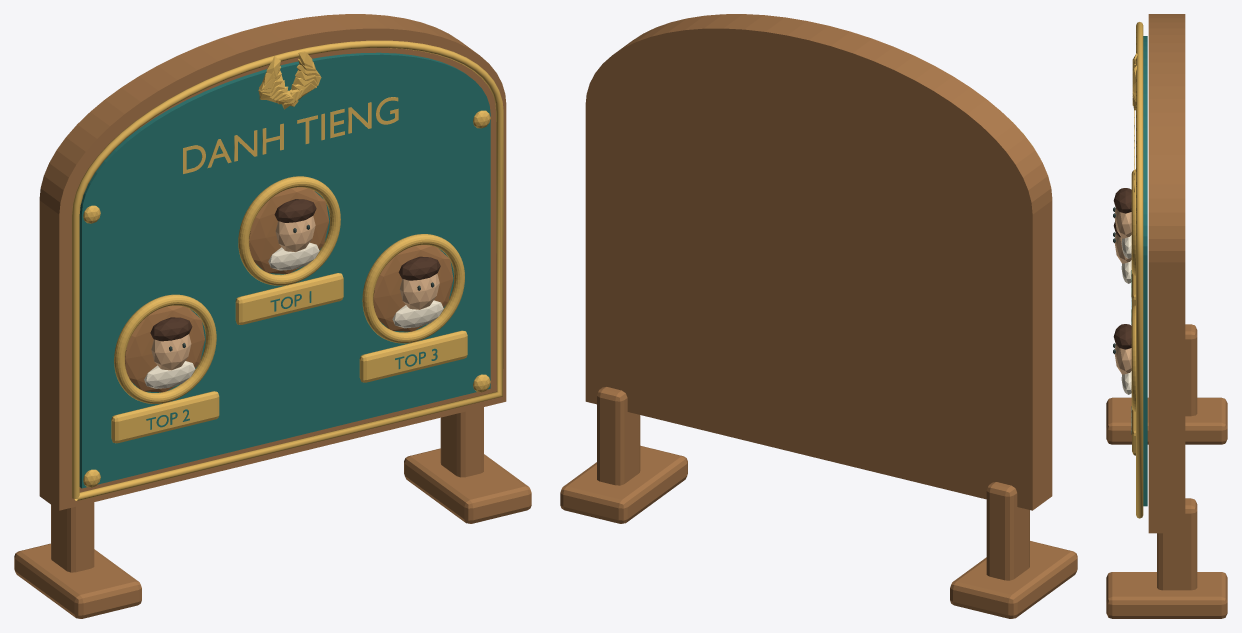
Rendered from honor-gold.glb.
3 views of the same model, side by side, from view 1: azimuth 30°, elevation 25°; view 2: azimuth 150°, elevation 25°; view 3: azimuth 270°, elevation 25° (orthographic). The views are drawn at different scales.
Parts seen in each view (by area): view 1: honor_inset, honor_outer_arch, honor_metal_outline, honor_foot, honor_foot.001, portrait_frame, portrait_frame.002, portrait_frame.001, nameplate, nameplate.002, nameplate.001, portrait_back (+14 smaller); view 2: honor_outer_arch, honor_foot.001, honor_foot, honor_support, honor_support.001; view 3: honor_outer_arch, honor_foot.001, honor_metal_outline, honor_foot, honor_support.001, honor_inset, honor_support, portrait_frame, portrait_frame.002, portrait_head.002, portrait_head, portrait_hair (+5 smaller).
Part boxes in pixels (x1,y1,x2,y2): honor_inset: (79, 52, 490, 488); honor_outer_arch: (39, 14, 506, 510); honor_metal_outline: (72, 40, 503, 500); honor_foot: (14, 543, 141, 618); honor_foot.001: (404, 448, 531, 523); portrait_frame: (238, 176, 340, 285); portrait_frame.002: (362, 234, 464, 343); portrait_frame.001: (114, 294, 216, 403); nameplate: (235, 273, 343, 324); nameplate.002: (359, 330, 467, 382); nameplate.001: (111, 391, 219, 443); portrait_back: (249, 187, 329, 273); honor_outer_arch: (585, 14, 1052, 510); honor_foot.001: (560, 445, 687, 523); honor_foot: (950, 541, 1077, 618); honor_support: (986, 482, 1029, 580); honor_support.001: (597, 387, 640, 485); honor_outer_arch: (1148, 14, 1185, 533); honor_foot.001: (1106, 572, 1227, 618); honor_metal_outline: (1136, 22, 1143, 518); honor_foot: (1106, 397, 1227, 444); honor_support.001: (1157, 498, 1197, 590); honor_inset: (1143, 36, 1147, 506); honor_support: (1185, 324, 1197, 416); portrait_frame: (1131, 169, 1135, 275); portrait_frame.002: (1131, 305, 1135, 411); portrait_head.002: (1114, 344, 1131, 374); portrait_head: (1114, 208, 1131, 238); portrait_hair: (1113, 188, 1131, 213).
Bounding box in the file's own units: 2.39 × 2.55 × 0.6.
